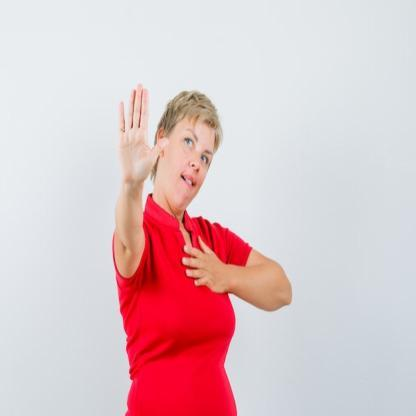stop: (113, 79, 171, 193)
